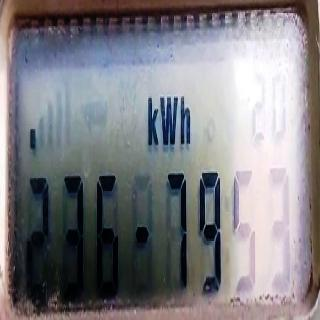-: (134, 220, 151, 248), (29, 123, 37, 153)
2: (23, 170, 51, 311)
3: (60, 169, 86, 307), (268, 162, 294, 300)
5: (230, 161, 258, 301)
6: (94, 166, 121, 306)
7: (167, 165, 190, 292)
9: (196, 162, 224, 297)
